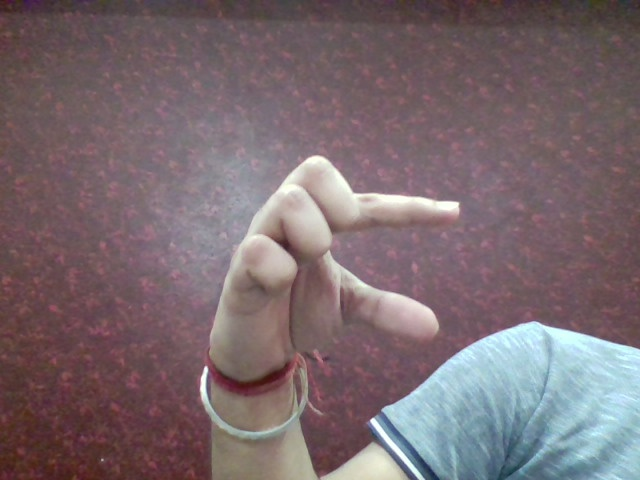c: (205, 151, 466, 350)
